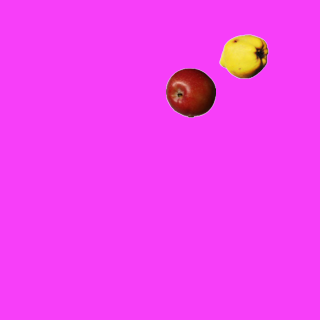Apple Braeburn: (165, 67, 215, 117)
Quince: (218, 31, 268, 81)
